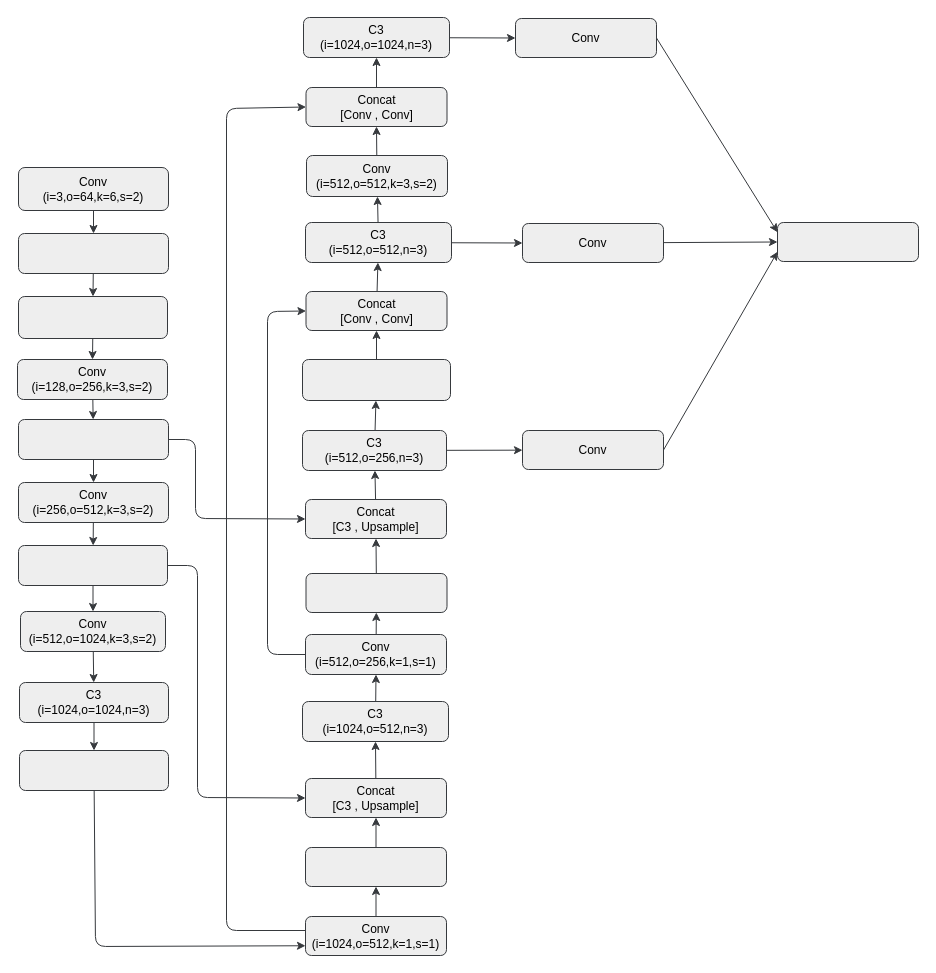
This 936x973 diagram has some shape labels left out. Each missing label, with the centre of its shape:
C3 (i=128,o=128,n=2): point 93,317
C3 (i=256,o=256,n=6): point 93,439
C3 (i=512,o=512,n=9): point 93,565
Conv (i=256,o=256,k=3,s=2): point 376,379
Conv (i=64,o=128,k=3,s=2): point 93,253
Detect: point 847,242
SPPF (i=1024,o=1024,n=5): point 93,770
Upsample(2,2) (i=256,o=256): point 376,592
Upsample(2,2) (i=512,o=512): point 375,866
